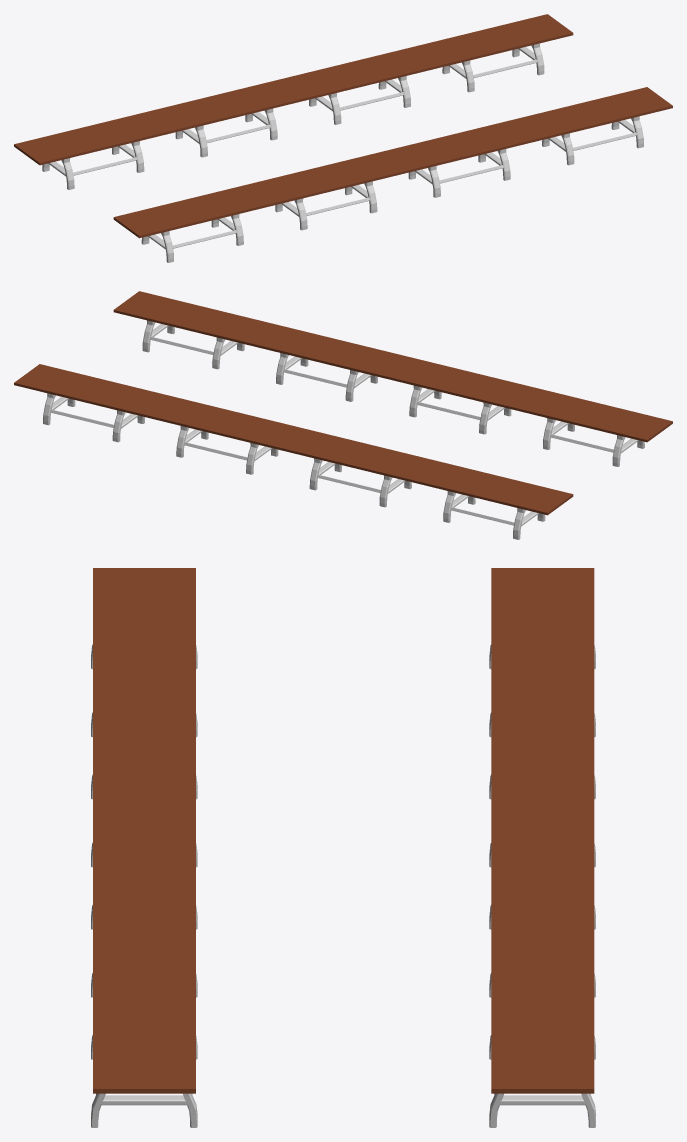
The model's file is Cafeteria_Asientos.fbx.
3 renders of one model, top to bottom at view 1: azimuth 30°, elevation 25°; view 2: azimuth 150°, elevation 25°; view 3: azimuth 270°, elevation 25°, orthographic. The views are drawn at different scales.
Visible parts, largest first — view 1: Comedor_Asientos; view 2: Comedor_Asientos; view 3: Comedor_Asientos.
Part boxes in pixels (bbox=[...]): Comedor_Asientos: bbox=[14, 14, 672, 262]; Comedor_Asientos: bbox=[14, 291, 672, 539]; Comedor_Asientos: bbox=[91, 568, 595, 1127].
Size of the model in its own units: 2497 by 151 by 1024.
